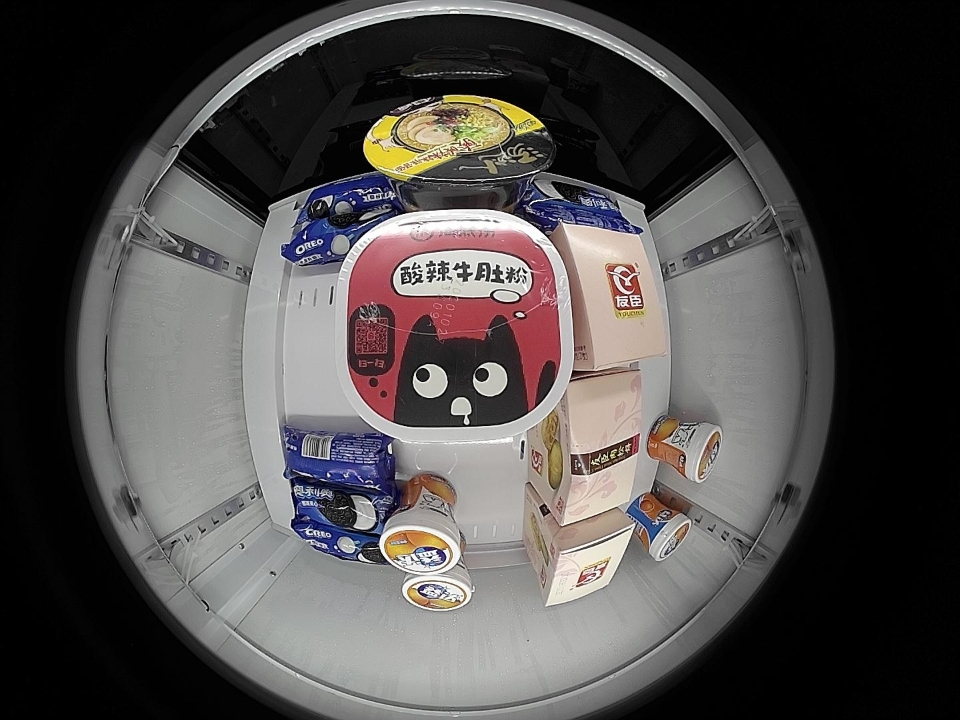aoliao: (282, 429, 392, 491), (280, 213, 390, 267), (288, 171, 406, 221), (291, 482, 386, 530), (522, 207, 646, 240), (522, 174, 624, 212), (294, 520, 381, 564)
niudufen: (340, 209, 571, 441)
rousongbing: (558, 221, 669, 371), (550, 370, 649, 527), (537, 512, 636, 608)
tangdaren2: (364, 94, 554, 202)
yida: (380, 510, 463, 574), (402, 568, 474, 612), (674, 420, 723, 484), (640, 508, 692, 562)
